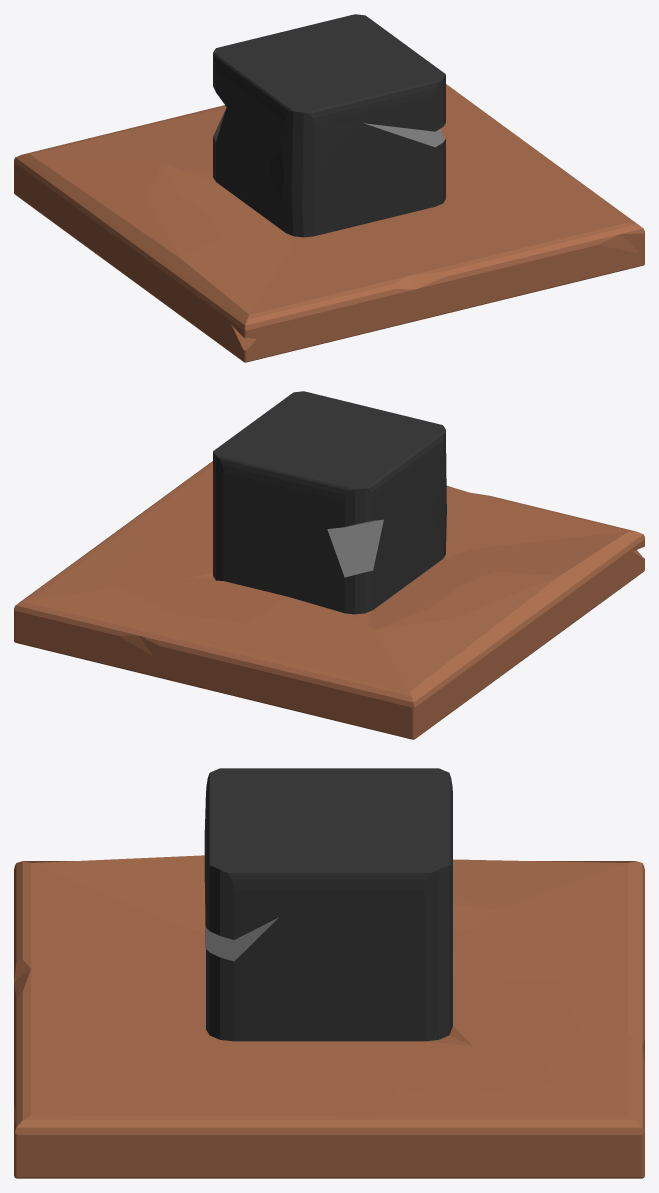
The model's file is MeteorBase.fbx.
3 renders of one model, top to bottom at view 1: azimuth 30°, elevation 25°; view 2: azimuth 150°, elevation 25°; view 3: azimuth 270°, elevation 25°, orthographic. The views are drawn at different scales.
Visible parts, largest first — view 1: ShooterBase; view 2: ShooterBase; view 3: ShooterBase.
Part boxes in pixels (x1,y1,x2,y2): ShooterBase: [14, 14, 644, 362]; ShooterBase: [14, 391, 644, 739]; ShooterBase: [14, 768, 644, 1178].
Size of the model in its own units: 5 by 5 by 1.99.
